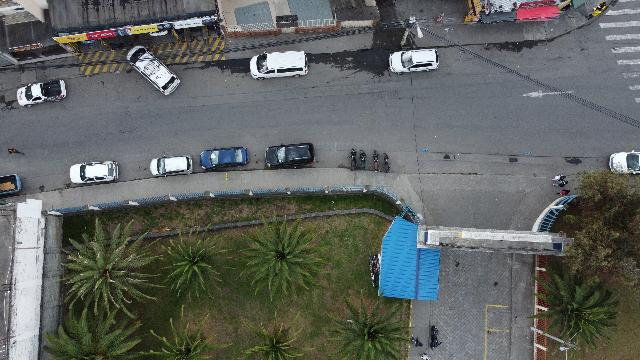Vehiculo: (126, 45, 180, 95), (250, 50, 308, 80), (18, 79, 66, 107), (389, 49, 439, 75), (266, 142, 314, 168), (200, 146, 248, 170), (70, 160, 118, 184), (150, 156, 192, 176), (609, 150, 639, 174), (0, 170, 24, 198)
